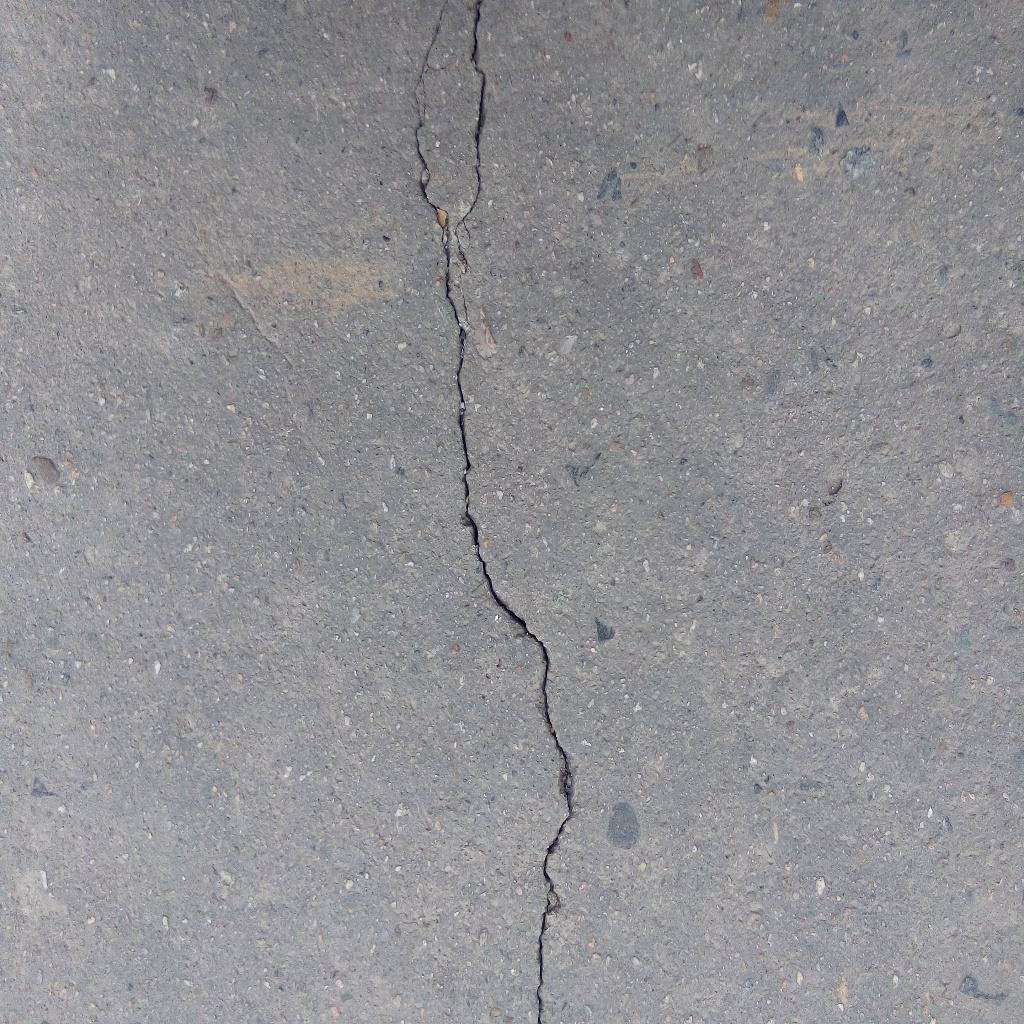Crack: (413, 1, 576, 1024)
Spalling: (31, 455, 60, 484)
